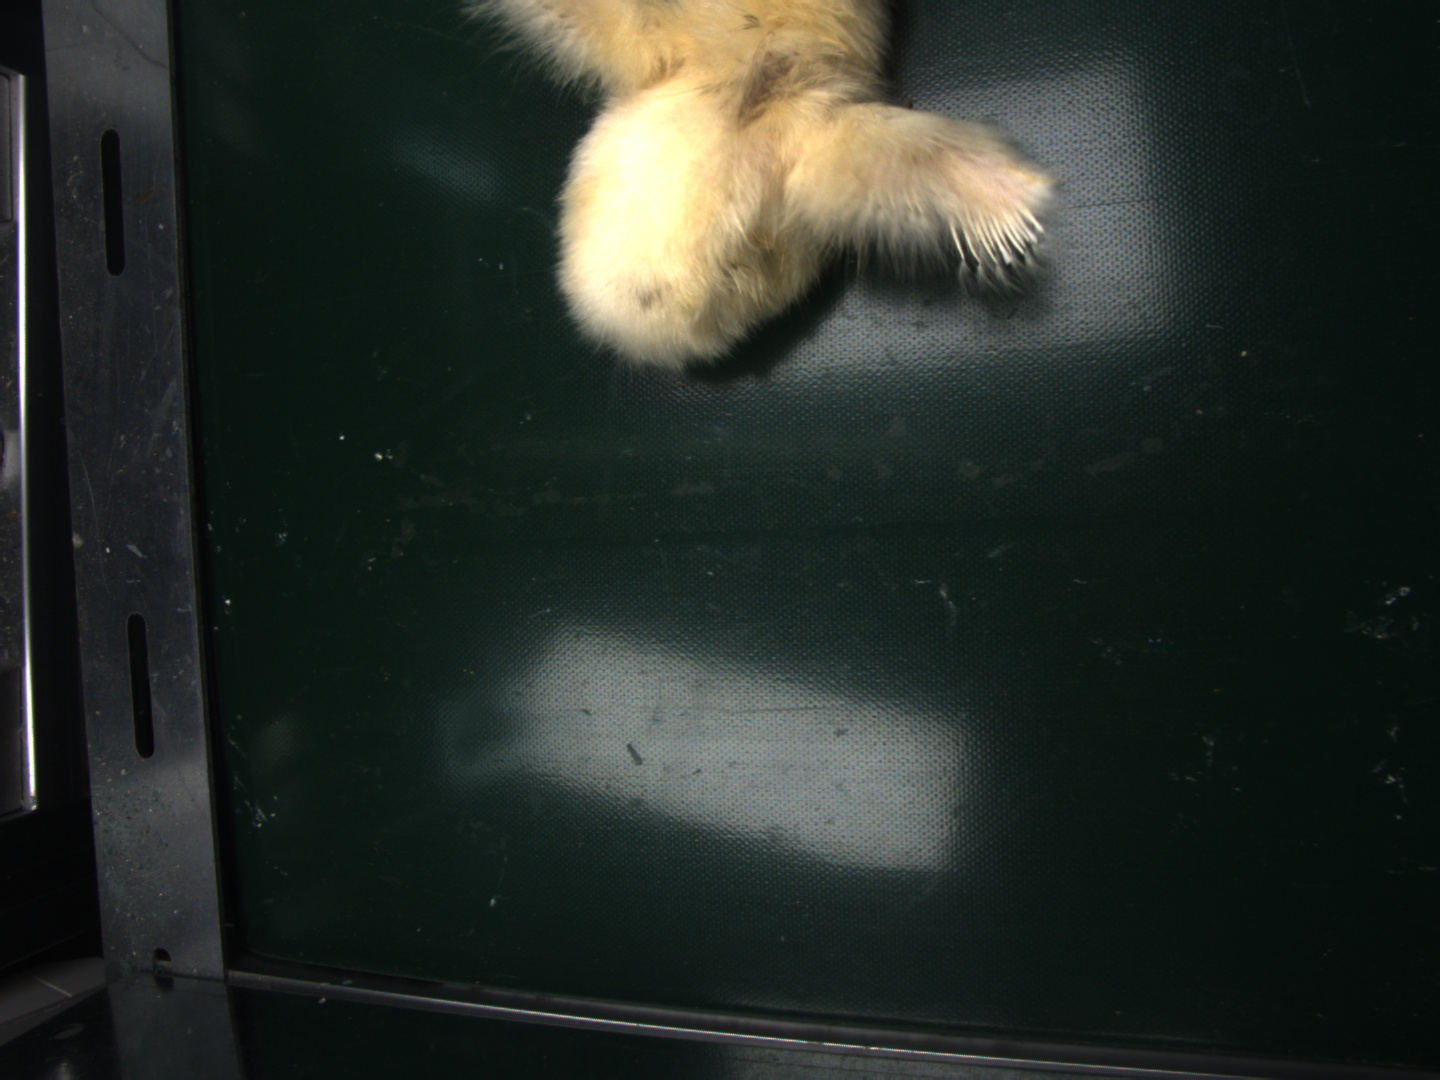male: (954, 204, 1048, 265)
